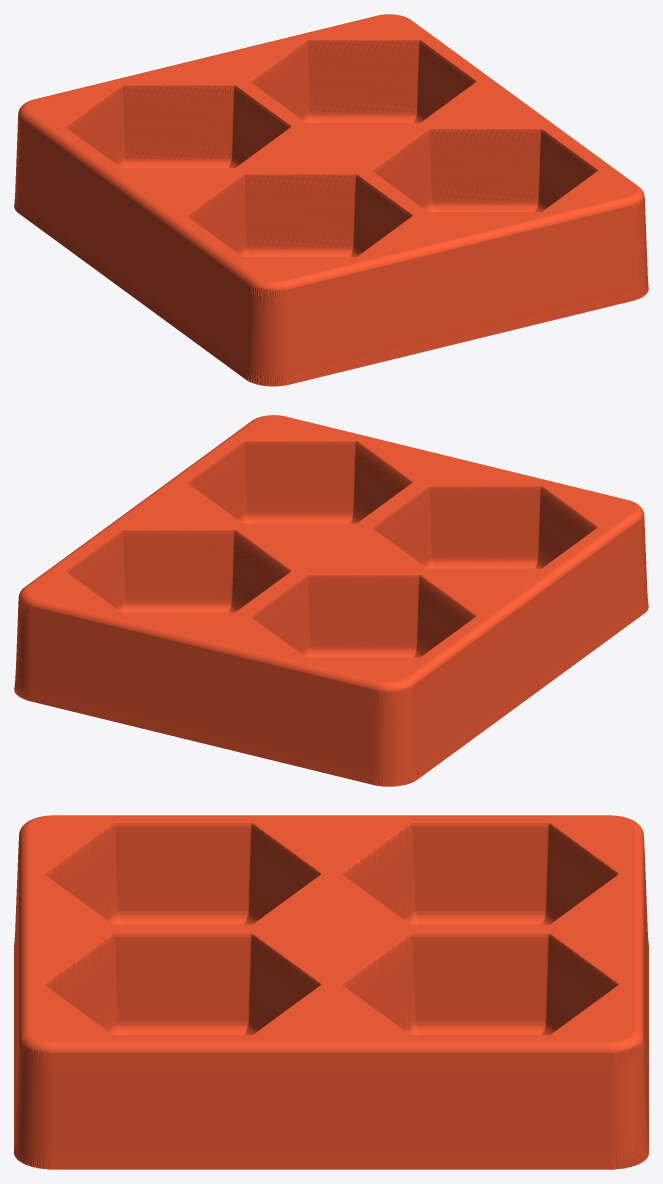
File: mold.glb
3 views of the same model, one above another, from view 1: azimuth 30°, elevation 25°; view 2: azimuth 150°, elevation 25°; view 3: azimuth 270°, elevation 25° (orthographic). The views are drawn at different scales.
Visible parts, largest first — view 1: geometry_0; view 2: geometry_0; view 3: geometry_0.
Boxes of the visible parts, <box> form: geometry_0: <box>14,14,648,386</box>; geometry_0: <box>14,415,648,786</box>; geometry_0: <box>14,815,648,1169</box>.
Bounding box in the file's own units: 0.1301 × 0.031 × 0.1466.
